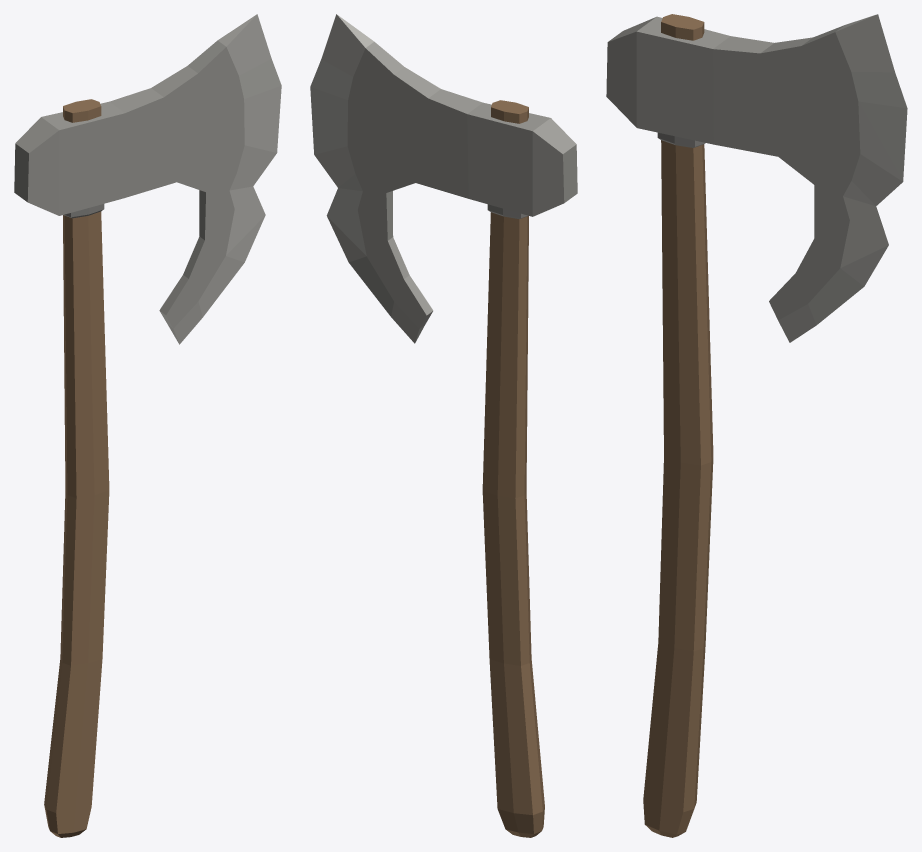
Rendered from SM_pwe_slavic_axe_01.fbx.
3 renders of one model, left to right at view 1: azimuth 30°, elevation 25°; view 2: azimuth 150°, elevation 25°; view 3: azimuth 330°, elevation 25°, orthographic. The views are drawn at different scales.
Parts seen in each view (by area): view 1: SM_pwe_slavic_axe_01; view 2: SM_pwe_slavic_axe_01; view 3: SM_pwe_slavic_axe_01.
Boxes of the visible parts, x1=… form: SM_pwe_slavic_axe_01: x1=14, y1=14, x2=281, y2=837; SM_pwe_slavic_axe_01: x1=310, y1=14, x2=577, y2=837; SM_pwe_slavic_axe_01: x1=606, y1=14, x2=907, y2=837.
Bounding box in the file's own units: 35.59 × 101 × 4.3.
